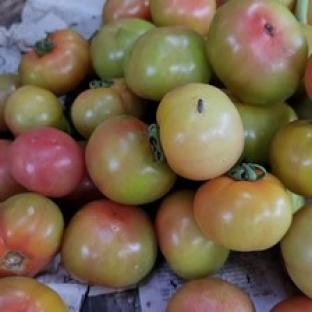Tomato: (194, 163, 292, 252), (156, 83, 245, 179), (62, 200, 157, 288), (85, 115, 176, 204), (155, 189, 229, 279), (124, 26, 211, 101), (0, 193, 64, 277), (9, 127, 84, 197), (19, 28, 90, 96), (70, 78, 146, 139), (234, 102, 298, 167), (91, 19, 154, 79), (5, 85, 69, 136), (269, 119, 311, 196), (280, 202, 311, 298), (166, 278, 254, 311), (0, 276, 69, 311), (0, 138, 25, 201), (0, 73, 20, 133), (271, 294, 311, 311), (304, 55, 311, 98)
